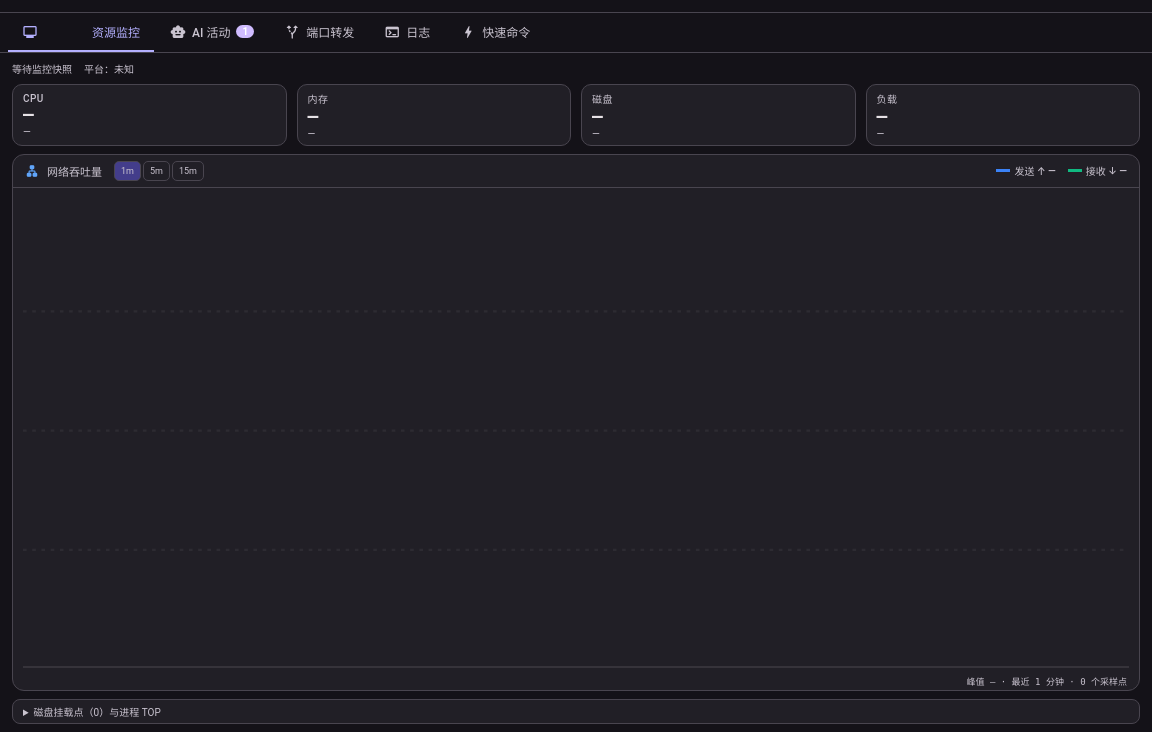
Scenario: AI 审批与活动展示 › 当前会话可直接从 AI 活动面板批准一次
Later steps or results of the test are not shown.
Click the button "AI 活动 1" at (212, 32), box x1=156 y1=13 x2=268 y2=52
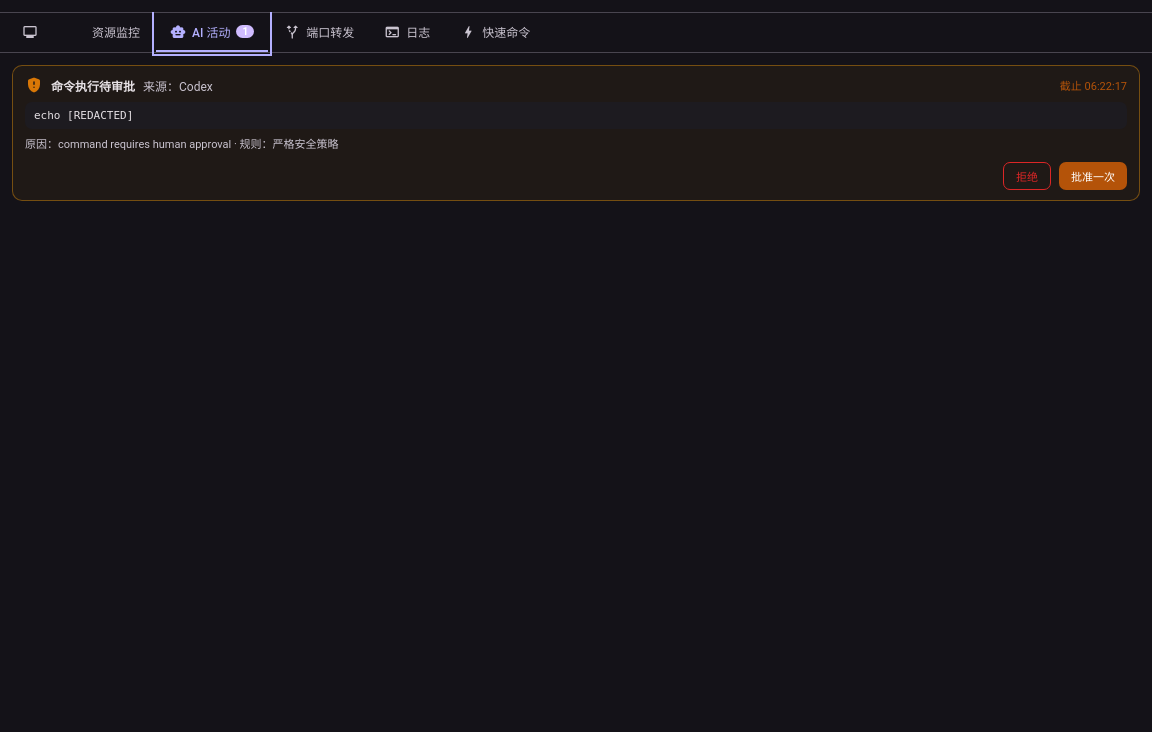
Expected: the text "echo [REDACTED]" is shown, x1=25 y1=102 x2=1127 y2=129
